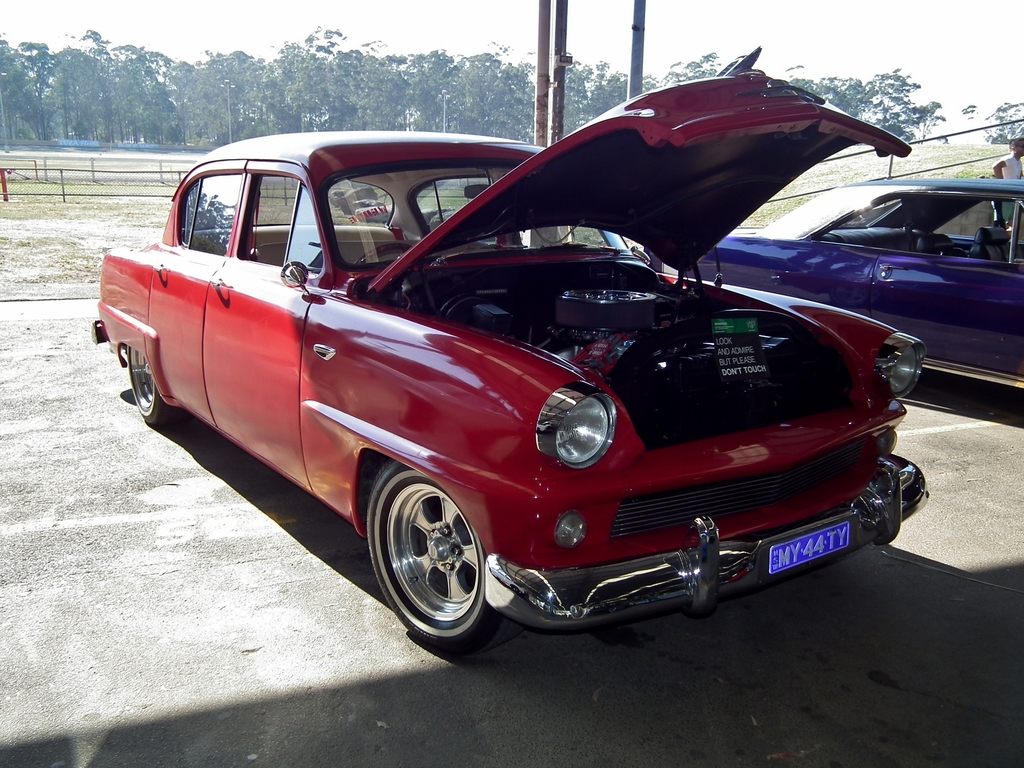Car: (88, 47, 931, 652), (691, 176, 1023, 398)
